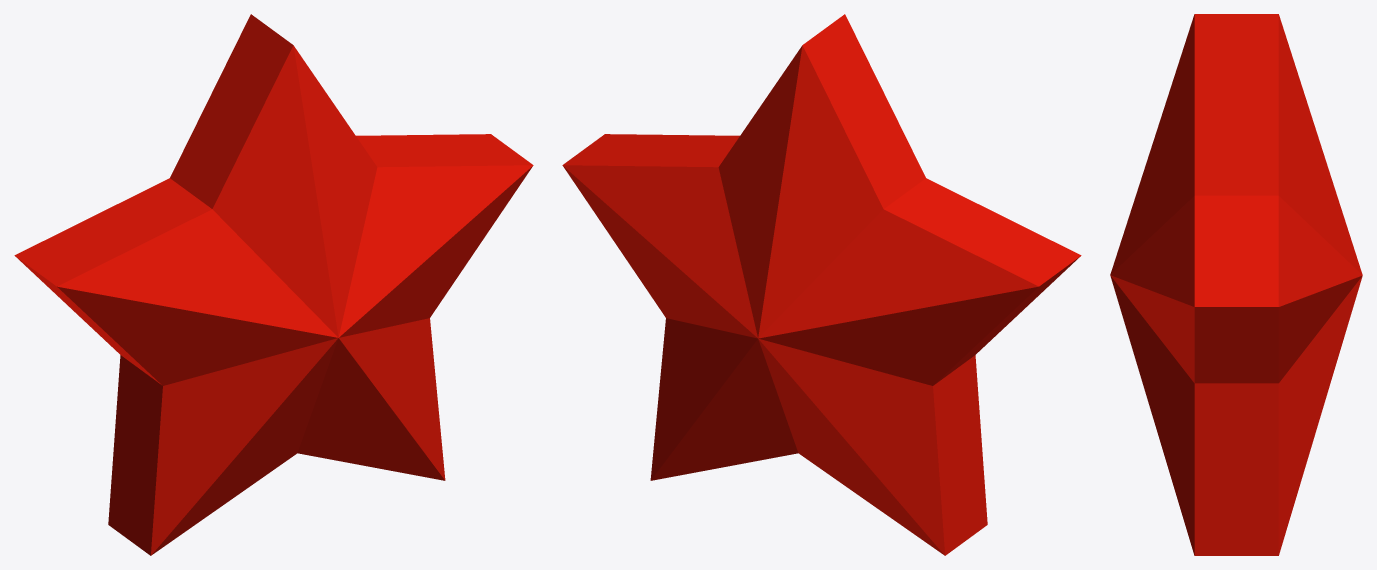
The model's file is estrella roja.glb.
3 renders of one model, left to right at view 1: azimuth 30°, elevation 25°; view 2: azimuth 150°, elevation 25°; view 3: azimuth 270°, elevation 25°, orthographic.
Parts seen in each view (by area): view 1: Cylinder; view 2: Cylinder; view 3: Cylinder.
Part boxes in pixels (x1,y1,x2,y2): Cylinder: (14, 14, 533, 555); Cylinder: (562, 14, 1081, 555); Cylinder: (1110, 14, 1362, 555).
Bounding box in the file's own units: 1.9 × 1.81 × 0.881.
